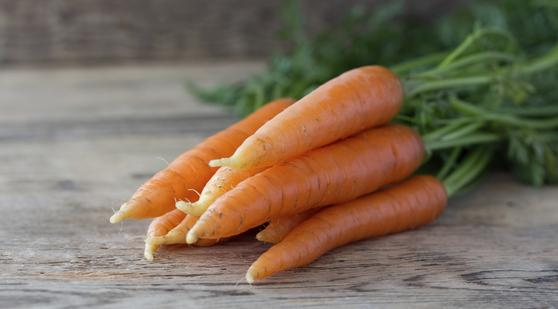carrot: (184, 122, 436, 243)
